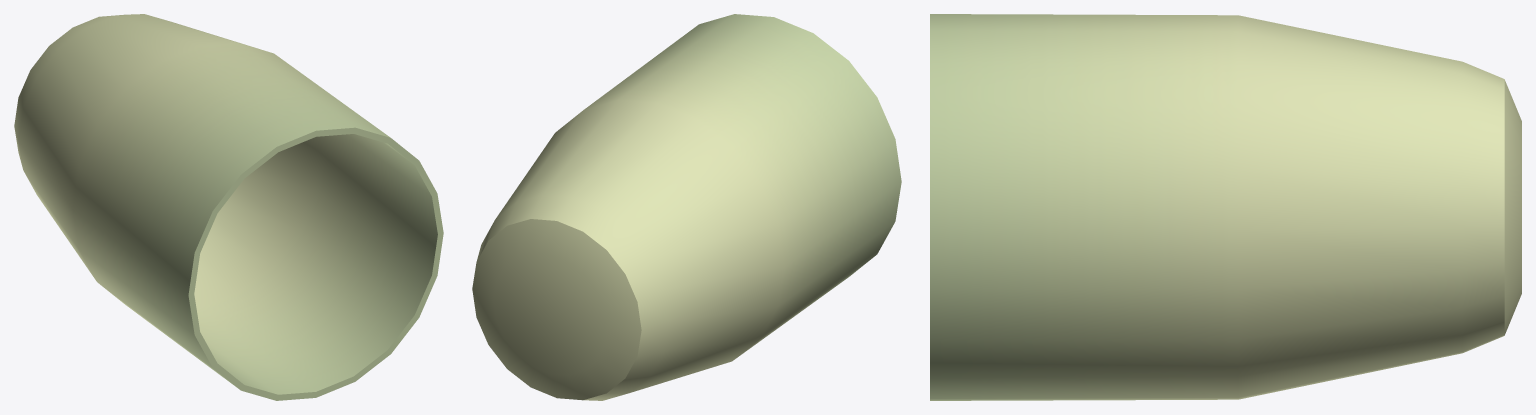
Rendered from chives1_sliced.fbx.
3 renders of one model, left to right at view 1: azimuth 30°, elevation 25°; view 2: azimuth 150°, elevation 25°; view 3: azimuth 270°, elevation 25°, orthographic. The views are drawn at different scales.
Visible parts, largest first — view 1: Chives_1_sliced; view 2: Chives_1_sliced; view 3: Chives_1_sliced.
Boxes of the visible parts, left/top/right/bottom form: Chives_1_sliced: left=14, top=14, right=443, bottom=400; Chives_1_sliced: left=472, top=14, right=901, bottom=400; Chives_1_sliced: left=930, top=14, right=1521, bottom=400.
Size of the model in its own units: 44.11 by 44.11 by 66.96.
